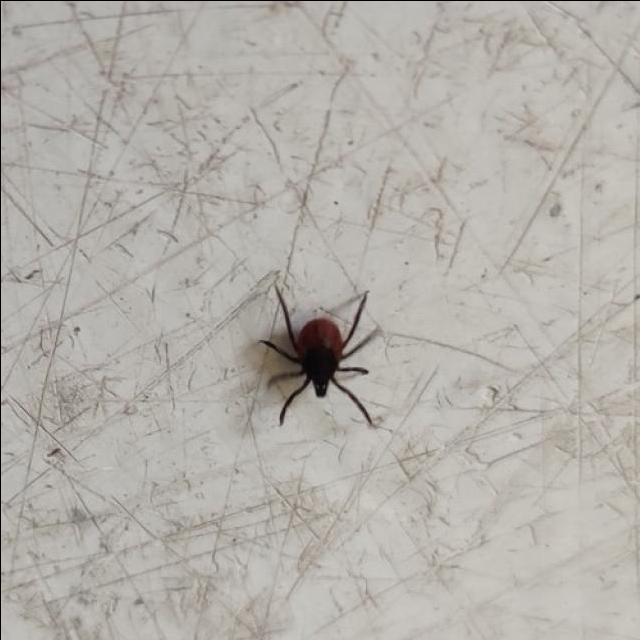Ixodes Ricinus-F: (259, 287, 384, 426)
